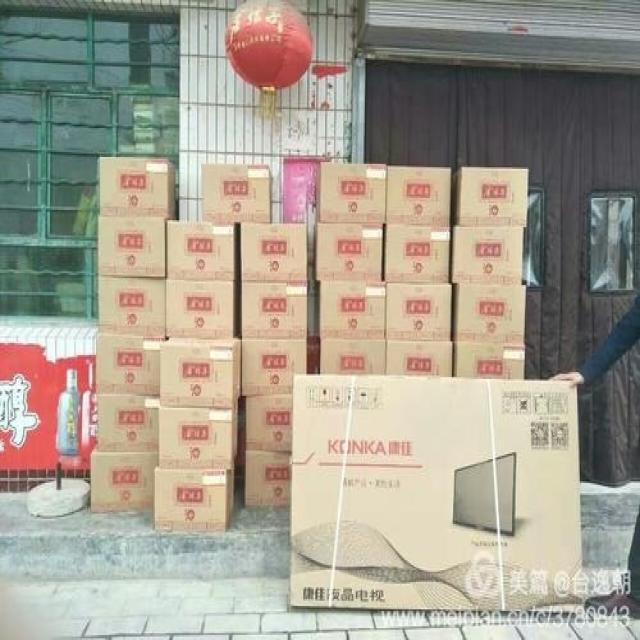box: (289, 374, 581, 613), (160, 336, 241, 408), (157, 401, 239, 468), (154, 464, 234, 531), (99, 155, 177, 215), (452, 167, 529, 227), (166, 218, 239, 280), (315, 162, 387, 224), (451, 224, 524, 285), (453, 285, 526, 345), (164, 280, 239, 338), (91, 452, 157, 515), (99, 276, 165, 338), (96, 335, 163, 396), (201, 164, 273, 220), (385, 166, 451, 227), (314, 224, 383, 282), (317, 283, 387, 340), (241, 222, 307, 282), (99, 217, 165, 276), (384, 225, 451, 283), (241, 338, 308, 396), (385, 283, 452, 340), (241, 283, 307, 338), (96, 396, 159, 451), (453, 343, 525, 379), (244, 452, 291, 507), (246, 396, 292, 451), (320, 338, 385, 375), (387, 341, 452, 377)
